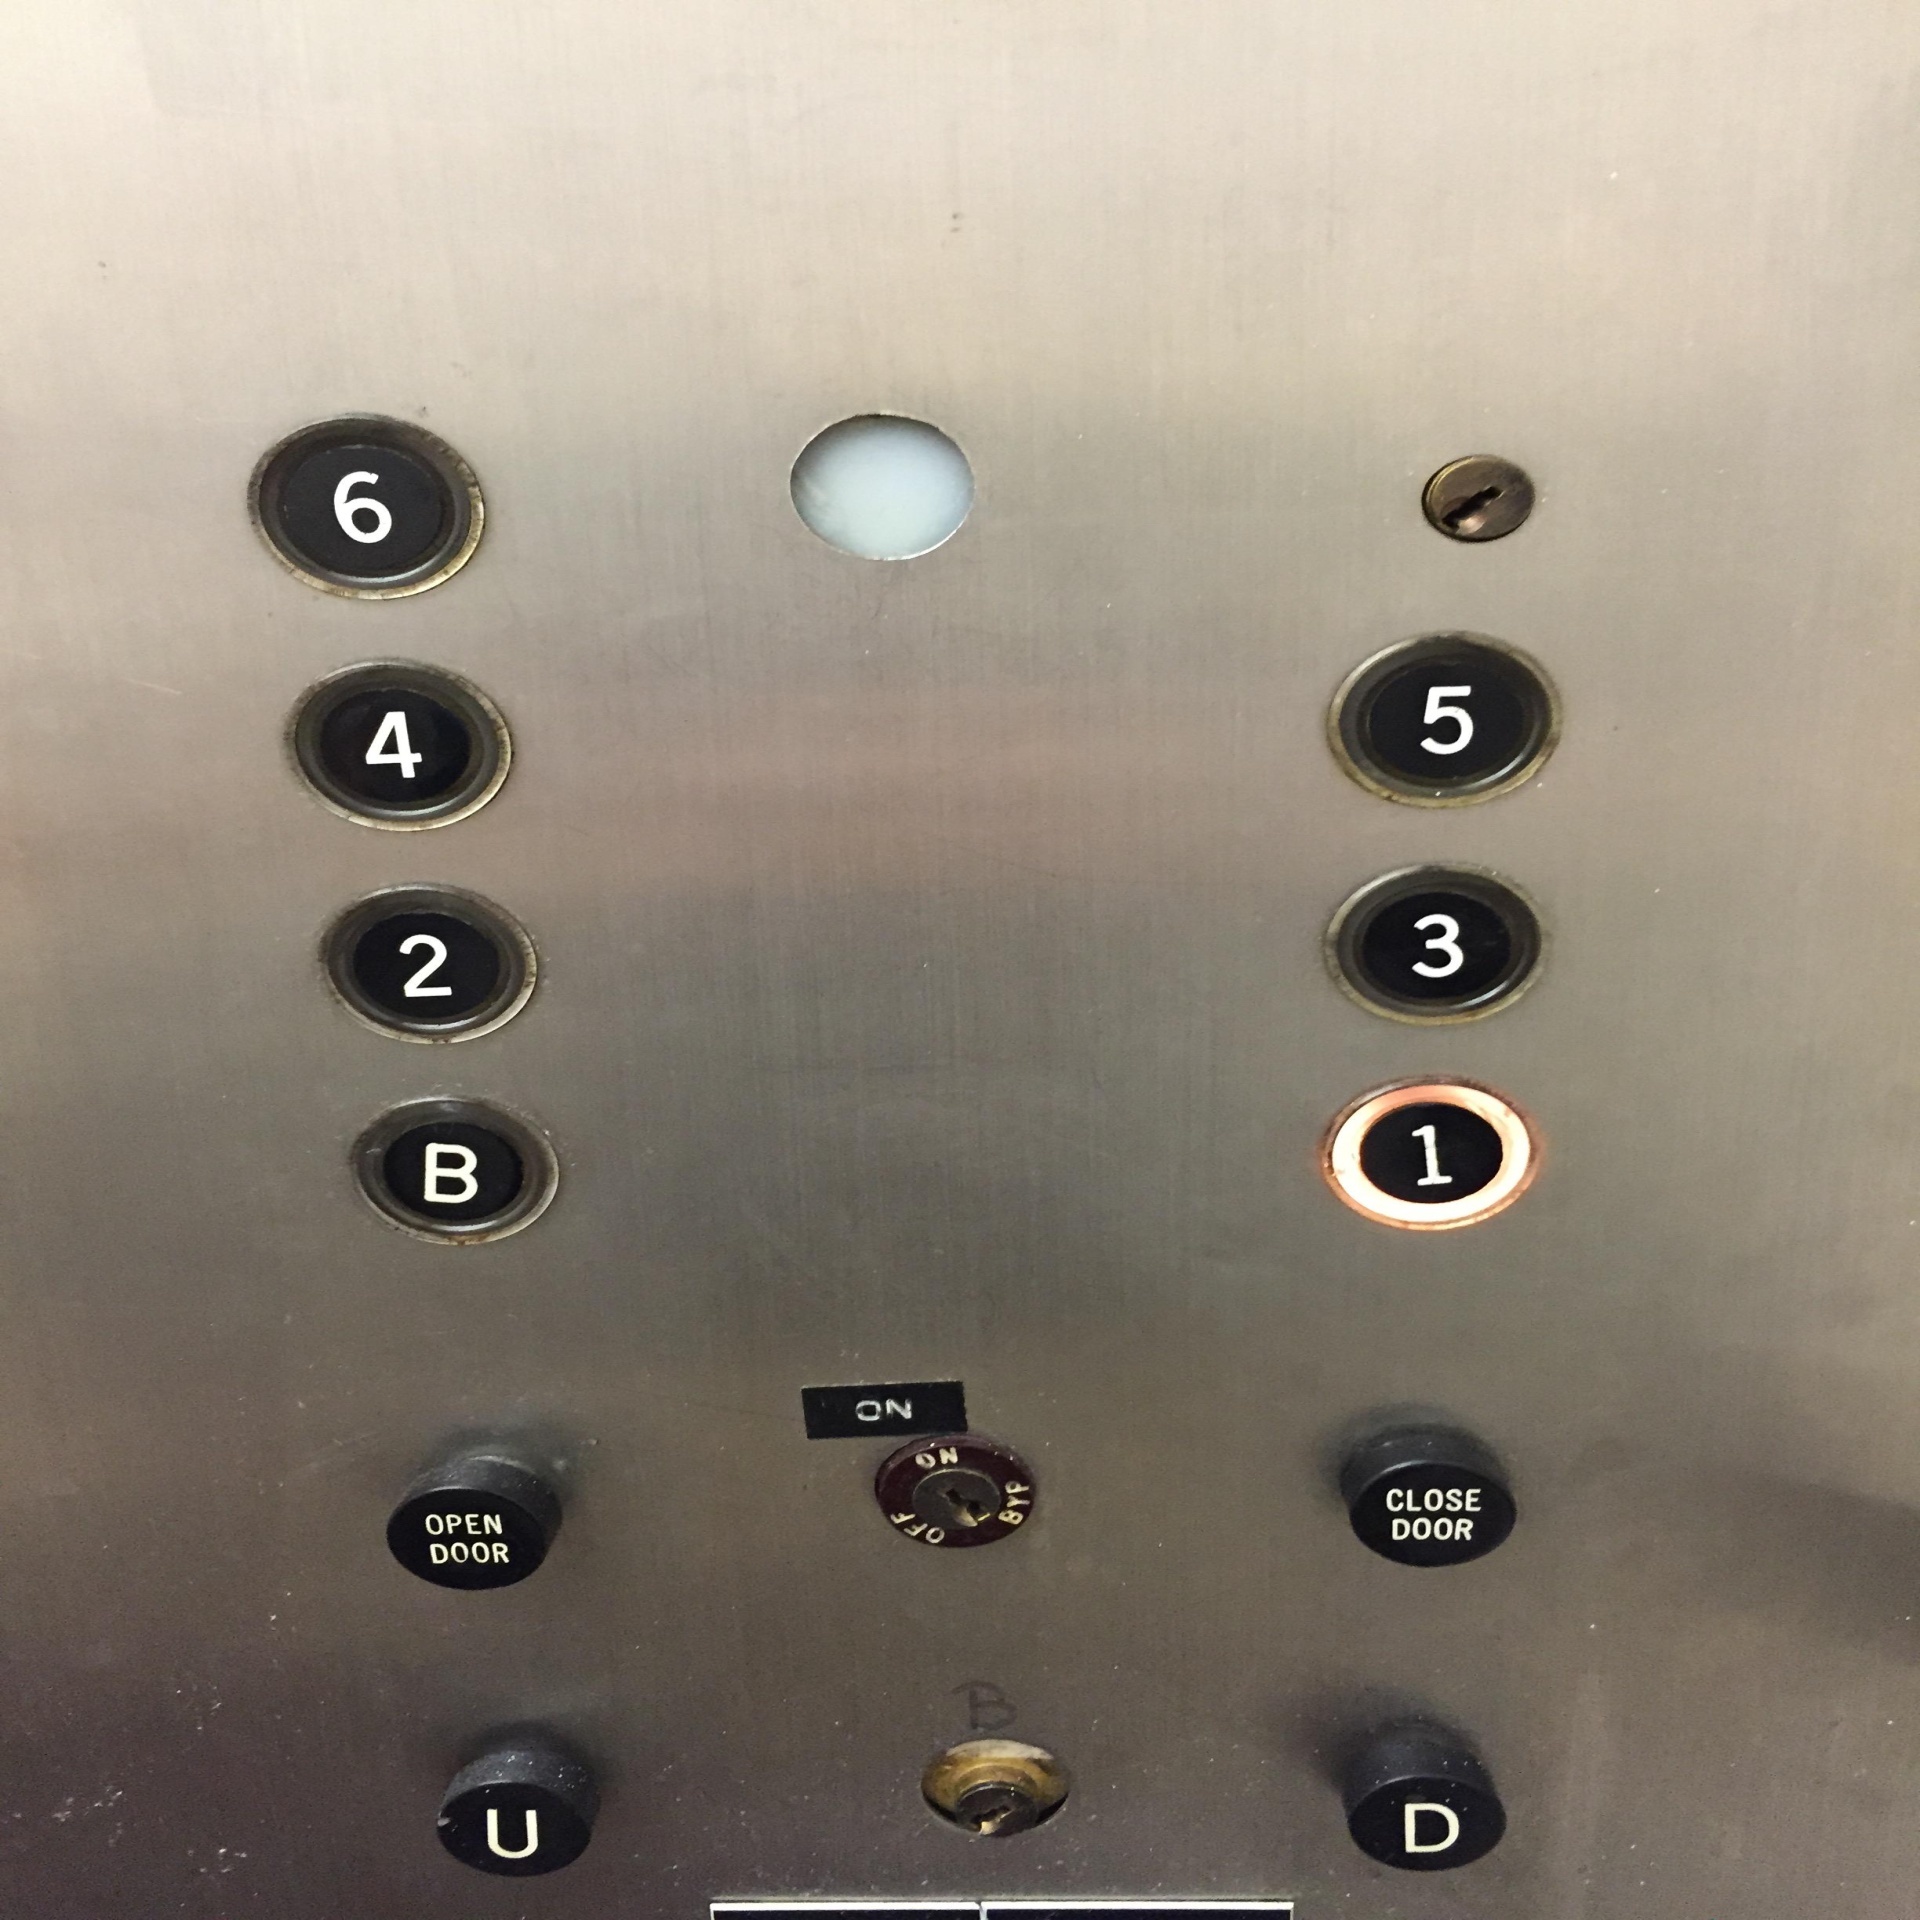1: (1322, 1071, 1545, 1233)
2: (316, 874, 542, 1043)
3: (1322, 860, 1549, 1027)
4: (283, 658, 515, 833)
5: (1324, 633, 1560, 805)
6: (244, 410, 485, 600)
B: (346, 1088, 557, 1245)
D: (1340, 1732, 1509, 1871)
U: (433, 1755, 594, 1874)
empty: (781, 406, 986, 564)
keyhole: (874, 1431, 1041, 1554), (920, 1718, 1071, 1846), (1415, 443, 1542, 550)
text: (383, 1449, 561, 1595), (1343, 1435, 1516, 1568)
